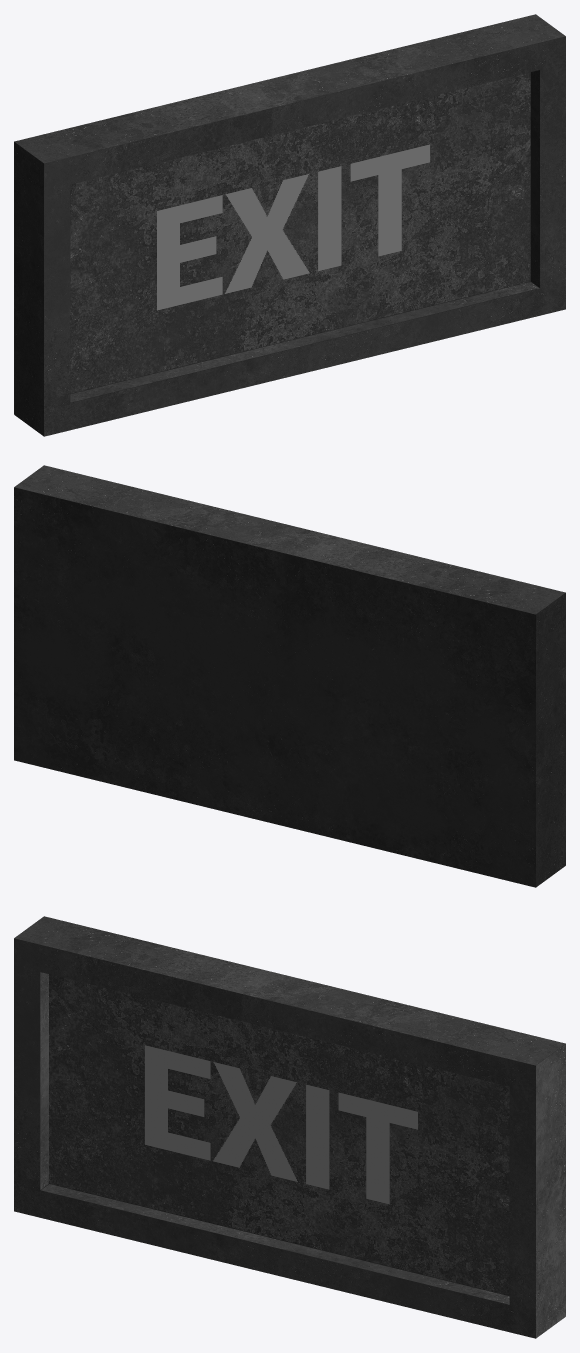
The model's file is Exit.fbx.
The picture shows the model from 3 angles, top to bottom: view 1: azimuth 30°, elevation 25°; view 2: azimuth 150°, elevation 25°; view 3: azimuth 330°, elevation 25°; orthographic projection.
Parts seen in each view (by area): view 1: ExitSign; view 2: ExitSign; view 3: ExitSign.
Part boxes in pixels (x1=…): ExitSign: x1=14, y1=14, x2=565, y2=436; ExitSign: x1=14, y1=465, x2=565, y2=887; ExitSign: x1=14, y1=916, x2=565, y2=1338.
Size of the model in its own units: 277 by 138 by 27.69.
Materials: 1 (1 with a texture image).
